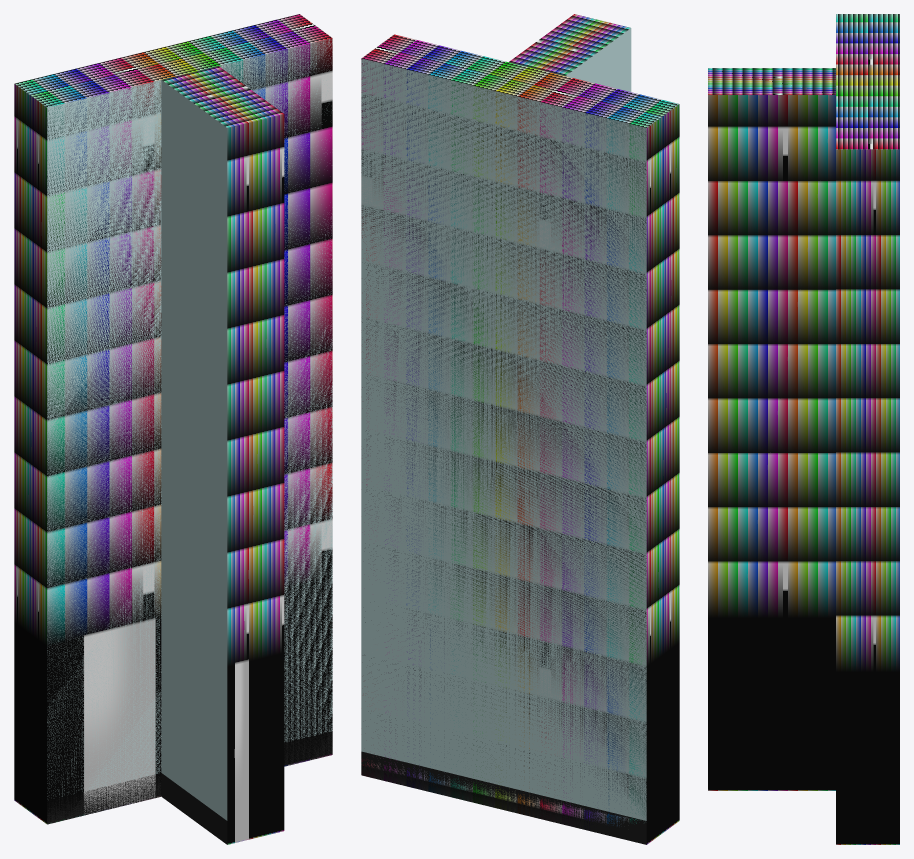
The model's file is interiorWall_T_1x1.fbx.
3 views of the same model, side by side, from view 1: azimuth 30°, elevation 25°; view 2: azimuth 150°, elevation 25°; view 3: azimuth 270°, elevation 25° (orthographic). The views are drawn at different scales.
Parts seen in each view (by area): view 1: trigger_2, interiorWall_T_1x1, trigger_1; view 2: interiorWall_T_1x1, trigger_2, trigger_1; view 3: trigger_1, trigger_2.
Part boxes in pixels (x1,y1,x2,y2): trigger_2: (14,14,332,824); interiorWall_T_1x1: (47,39,332,844); trigger_1: (162,66,284,844); interiorWall_T_1x1: (361,28,646,844); trigger_2: (361,34,679,844); trigger_1: (509,14,630,75); trigger_1: (708,68,835,790); trigger_2: (836,14,899,844).
Size of what is drawn, in the model's own units: 125 by 300 by 75.
